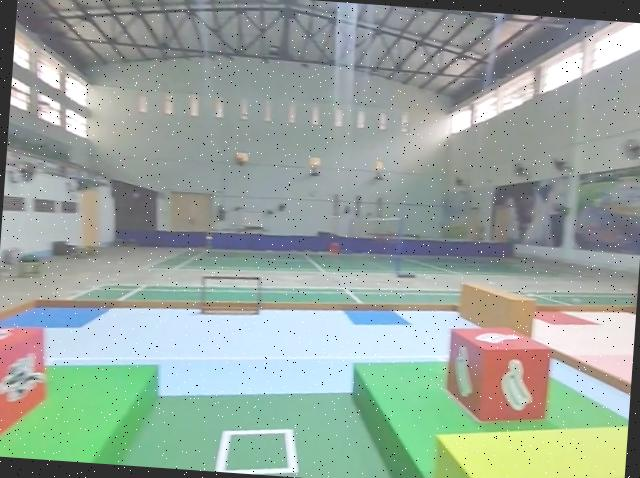R1: (0, 318, 54, 445)
R2 Real: (440, 319, 552, 426)
